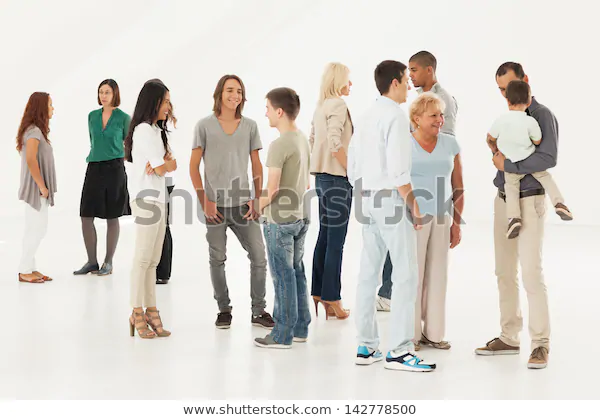person: (484, 68, 565, 226), (193, 66, 261, 213), (358, 55, 414, 214), (408, 86, 459, 256), (126, 73, 176, 206), (261, 88, 308, 209), (77, 77, 130, 184), (312, 59, 356, 182), (25, 90, 60, 206)
